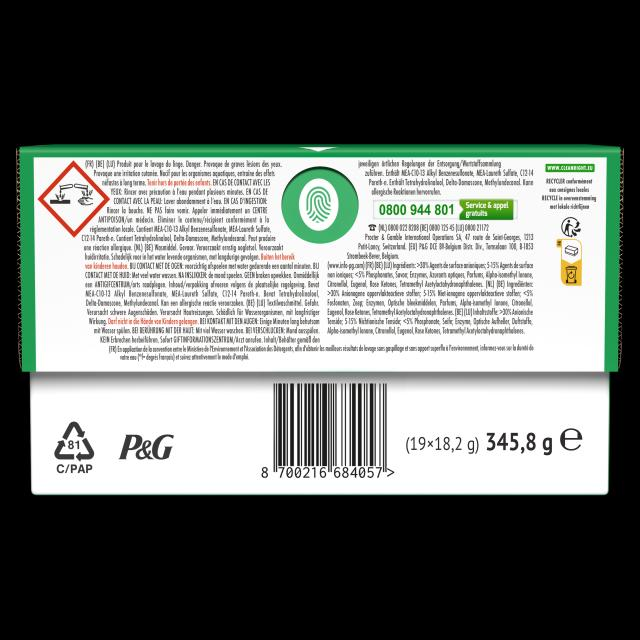GHS_Symbol_CORROSION: (37, 161, 110, 238)
